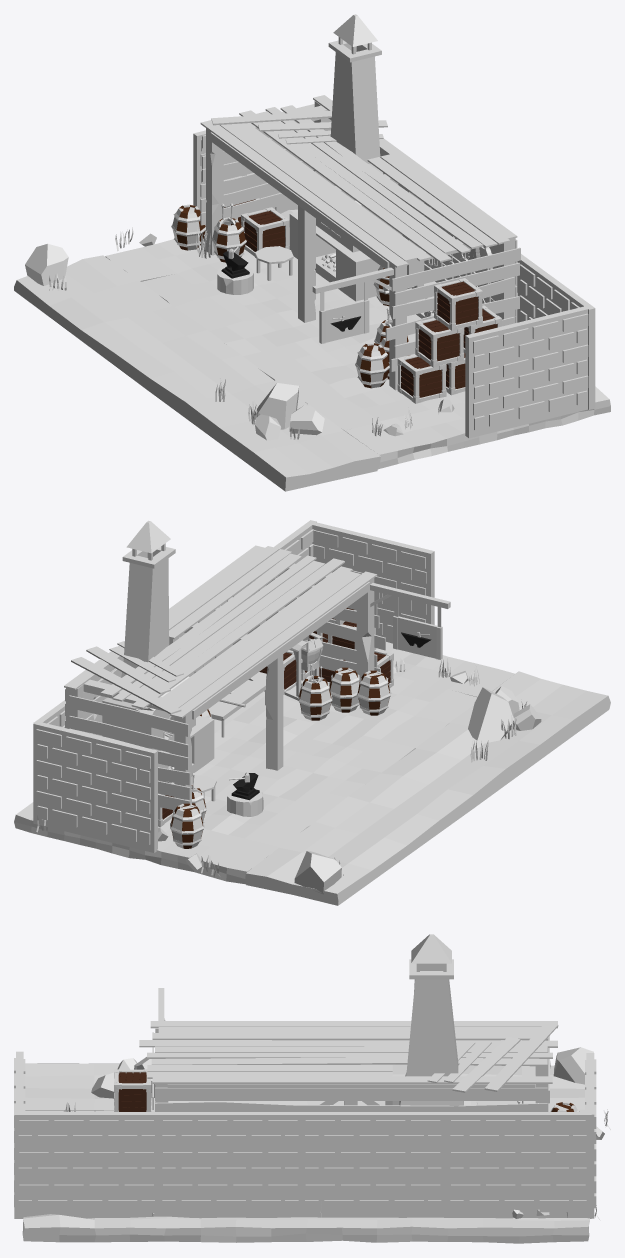
File: blacksmith.fbx
3 renders of one model, top to bottom at view 1: azimuth 30°, elevation 25°; view 2: azimuth 150°, elevation 25°; view 3: azimuth 270°, elevation 25°, orthographic. The views are drawn at different scales.
Parts seen in each view (by area): view 1: Plano.002, Cubo.004, StoneWall.005, Cubo.001, Cubo.014, StoneWall.004, Cubo.005, Cube.024, Cube.023, Cube.010, Cube.004, Cube (+7 smaller); view 2: Plano.002, Cubo.004, StoneWall, Cubo.001, StoneWall.005, Cubo.014, Cubo.005, Cube, Cube.008, Cube.005, Cube.019, Cube.003 (+4 smaller); view 3: Cubo.004, Plano.002, StoneWall.001, StoneWall.002, StoneWall.004, StoneWall.003, Cubo.001, Cubo.014, Cube.024, StoneWall, StoneWall.005.
Part boxes in pixels (x1,y1,x2,y2): Plano.002: [14, 209, 610, 491]; Cubo.004: [200, 95, 520, 390]; StoneWall.005: [465, 306, 588, 438]; Cubo.001: [289, 14, 436, 318]; Cubo.014: [25, 224, 454, 440]; StoneWall.004: [519, 257, 595, 409]; Cubo.005: [312, 267, 393, 343]; Cube.024: [434, 278, 482, 330]; Cube.023: [415, 318, 464, 367]; Cube.010: [397, 355, 446, 403]; Cube.004: [241, 207, 289, 258]; Cube: [217, 251, 360, 331]; Plano.002: [14, 642, 610, 905]; Cubo.004: [64, 545, 385, 810]; StoneWall: [33, 722, 157, 852]; Cubo.001: [102, 520, 266, 773]; StoneWall.005: [310, 521, 434, 643]; Cubo.014: [158, 666, 541, 894]; Cubo.005: [370, 583, 450, 659]; Cube: [227, 632, 431, 816]; Cube.008: [170, 803, 204, 848]; Cube.005: [357, 670, 391, 715]; Cube.019: [298, 676, 332, 720]; Cube.003: [329, 667, 359, 712]; Cubo.004: [139, 1021, 558, 1111]; Plano.002: [22, 1063, 589, 1243]; StoneWall.001: [446, 1112, 591, 1218]; StoneWall.002: [300, 1112, 446, 1217]; StoneWall.004: [14, 1112, 159, 1218]; StoneWall.003: [158, 1112, 303, 1218]; Cubo.001: [385, 934, 477, 1106]; Cubo.014: [91, 1047, 604, 1218]; Cube.024: [114, 1069, 151, 1111]; StoneWall: [585, 1053, 596, 1218]; StoneWall.005: [14, 1051, 25, 1206].
Size of the model in its own units: 2151 by 1692 by 3276.
